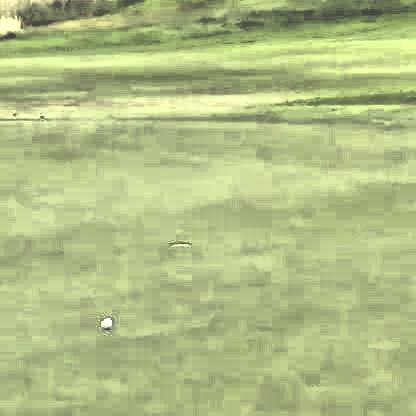golfball: (98, 314, 110, 328)
